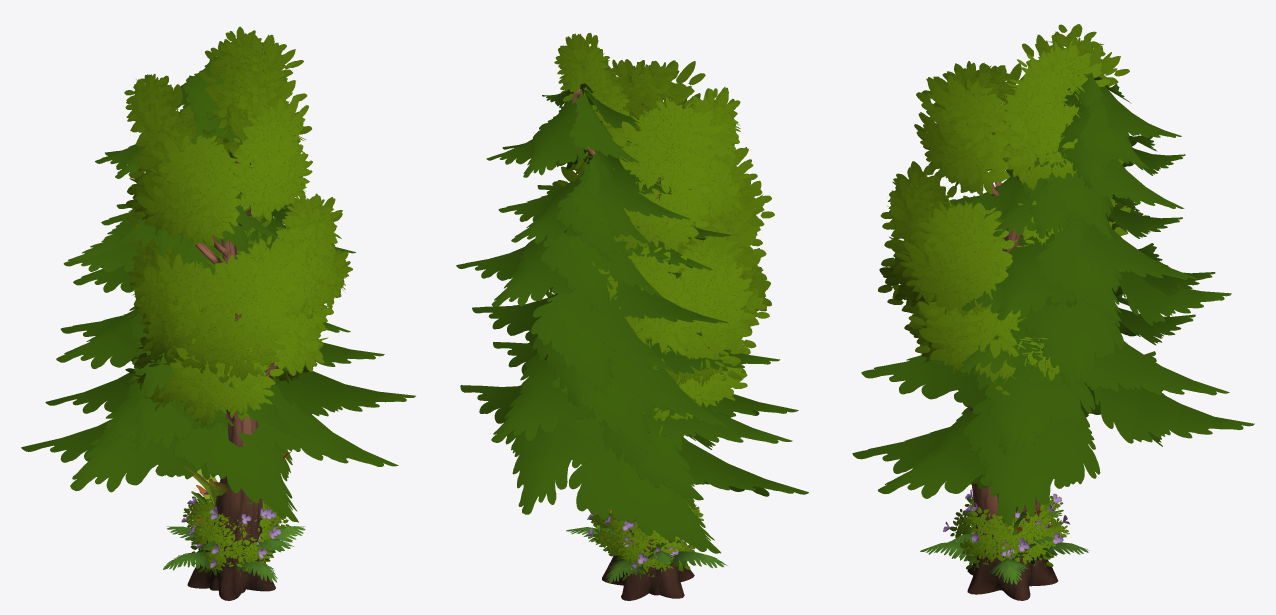
The model's file is garden_pack.glb.
The picture shows the model from 3 angles, left to right: view 1: azimuth 30°, elevation 25°; view 2: azimuth 150°, elevation 25°; view 3: azimuth 270°, elevation 25°; orthographic projection. The views are drawn at different scales.
Parts seen in each view (by area): view 1: tree025_1, tree032_1, tree027_1, tree025, tree009, Fern_1, tree009_1, Plant_1_Big; view 2: tree032_1, tree025_1, tree027_1, tree009, tree025, Fern_1; view 3: tree032_1, tree025_1, tree027_1, tree009, tree025, Fern_1, tree027, tree009_1.
Part boxes in pixels (x1,y1,x2,y2): tree025_1: (124,26,352,386); tree032_1: (21,53,415,522); tree027_1: (125,206,333,427); tree025: (187,113,275,600); tree009: (183,496,289,576); Fern_1: (163,524,305,582); tree009_1: (181,491,280,567); Plant_1_Big: (184,452,290,541); tree032_1: (456,83,808,553); tree025_1: (546,33,774,386); tree027_1: (592,219,769,435); tree009: (589,504,703,580); tree025: (602,103,694,600); Fern_1: (566,527,727,583); tree032_1: (852,72,1254,524); tree025_1: (878,24,1129,395); tree027_1: (887,193,1131,381); tree009: (950,494,1069,570); tree025: (967,171,1058,600); Fern_1: (920,509,1088,584); tree027: (980,362,1044,593); tree009_1: (943,489,1069,557).
Bounding box in the file's own units: 6.42 × 9.43 × 6.22.
Materials: 12 (12 with a texture image).
